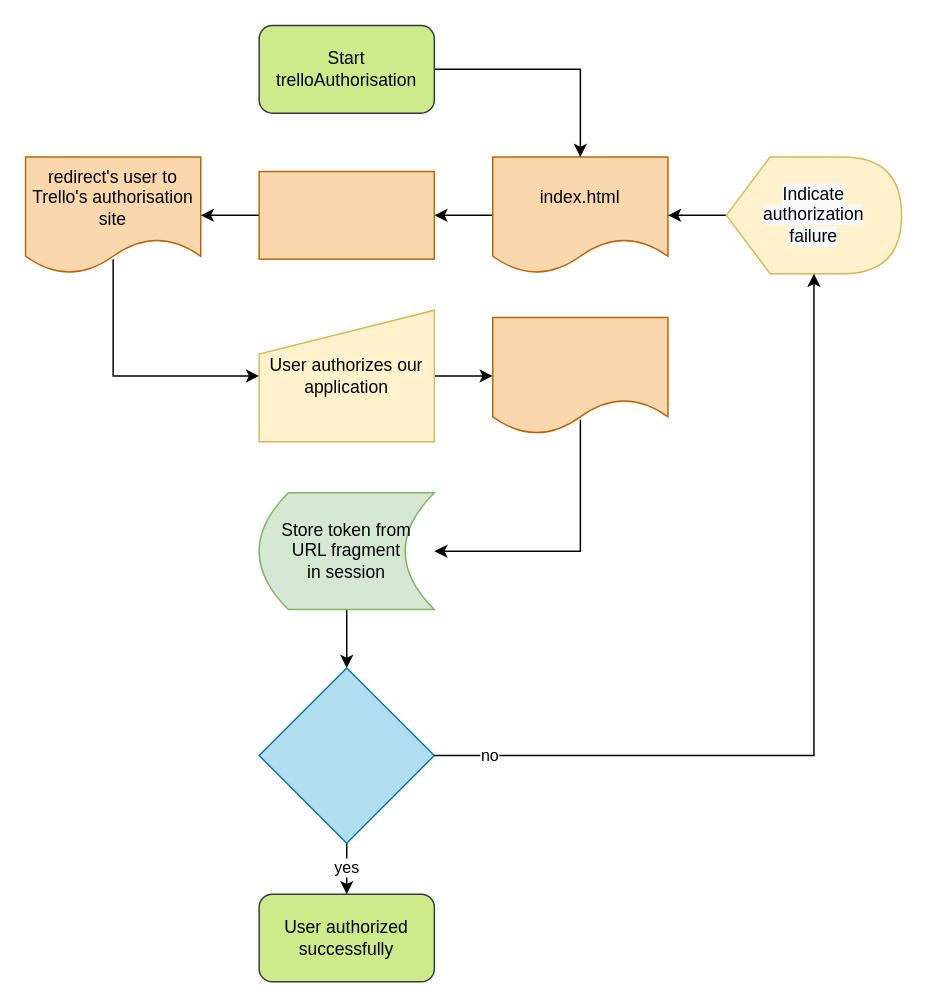
The diagram is 927 pixels wide and 1007 high, and some of its shapes have lost their labels. The shapes that lost their labels are listed below. From the top down, each one's centre as x and y in pixels, then its label:
point (346, 214): User clicks Trello button
point (579, 375): redirects to index.html
point (346, 754): Is token loaded successfully?
